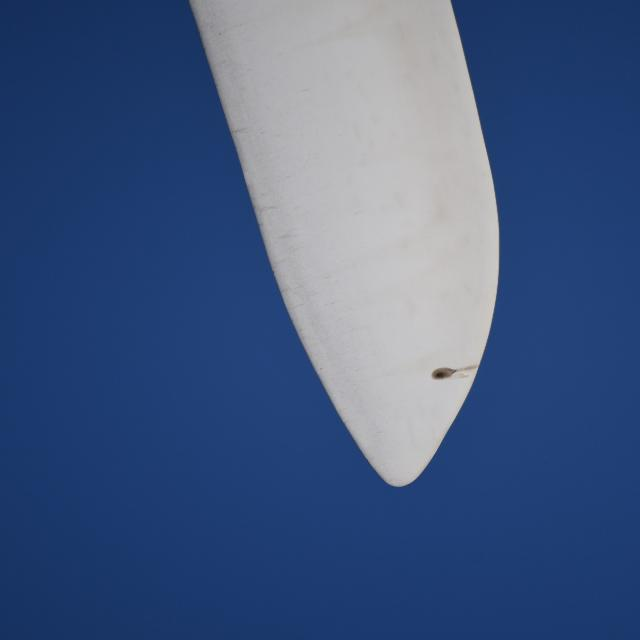Burn Mark: (428, 366, 469, 382)
